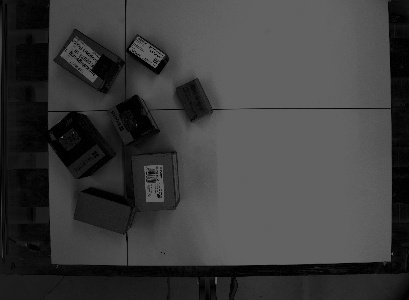b1: (173, 75, 214, 123)
b2: (72, 184, 135, 234)
b3: (124, 32, 171, 76)
b4: (41, 109, 116, 180)
b5: (131, 147, 181, 212)
b6: (50, 26, 125, 94)
b7: (104, 94, 161, 148)
